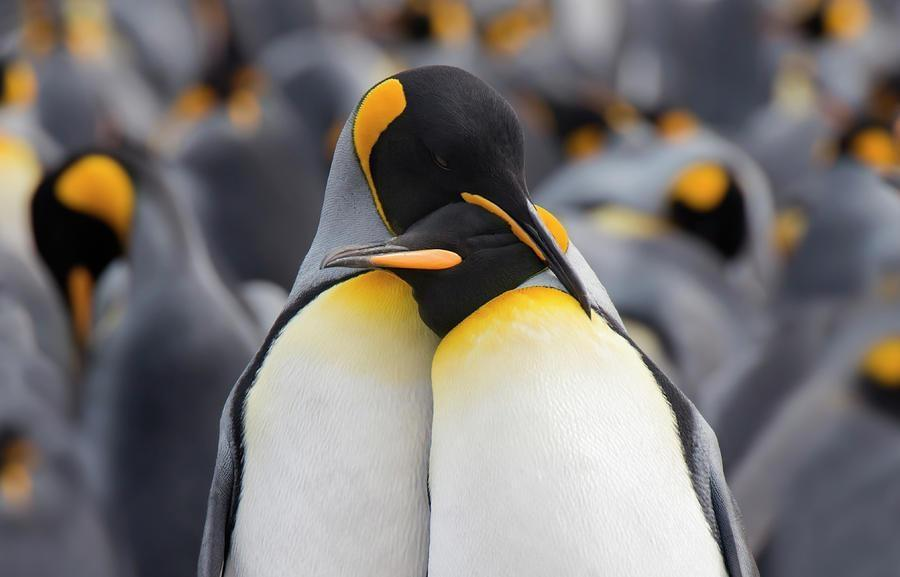Penguin: (199, 67, 592, 575), (323, 204, 760, 576), (30, 143, 266, 575)
